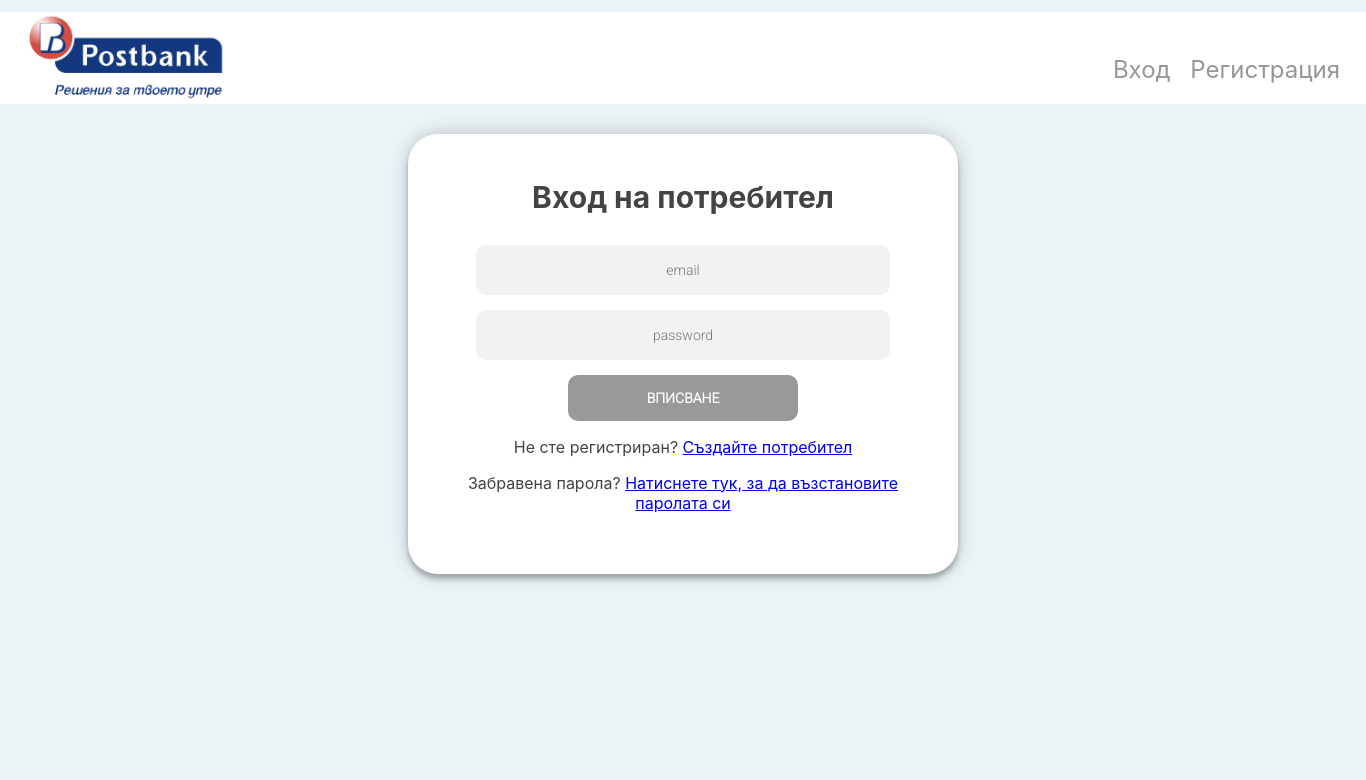
Check login form upon submit with email that doesn't match the requested format
Type "ndimov@postbank.b" into the field with placeholder "email" at (683, 270), box [476,245,890,295]
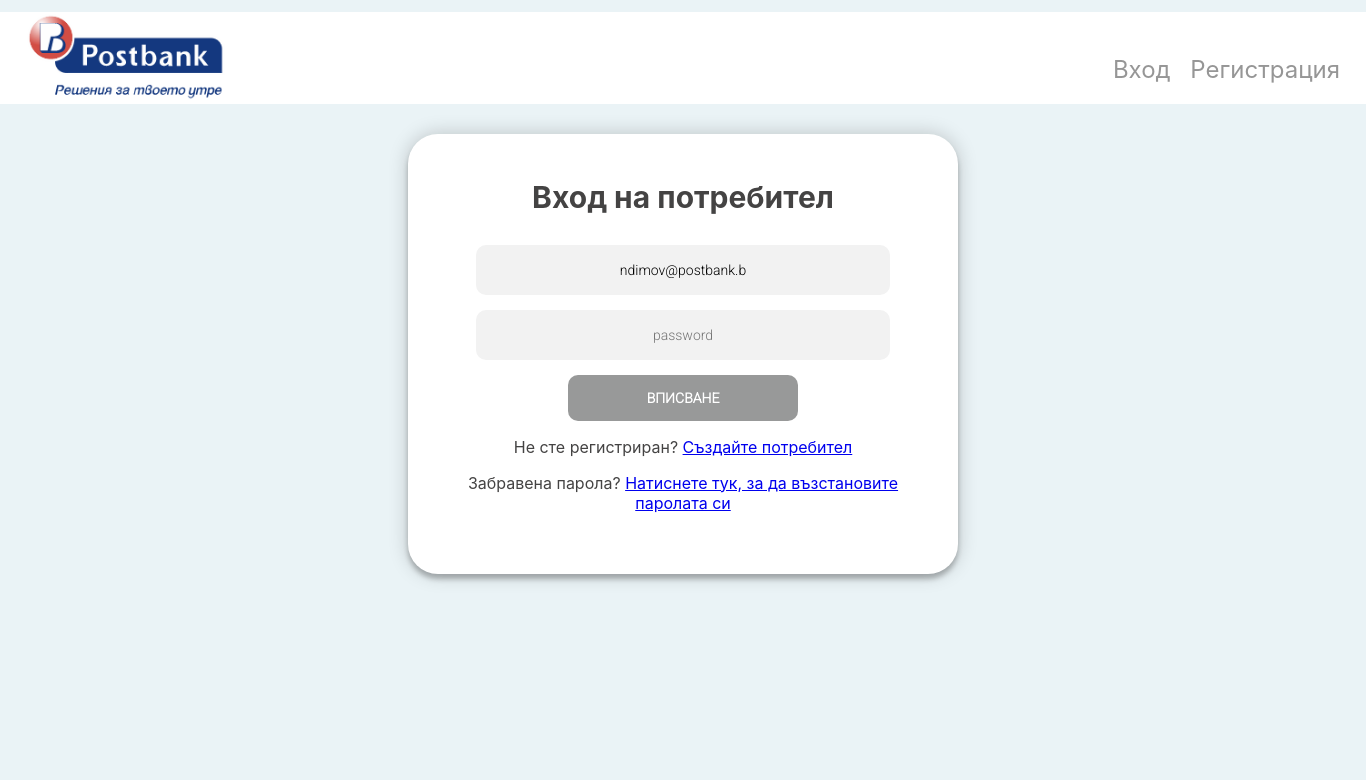
Type "123" into the password field with placeholder "password" at (683, 335), box [476,310,890,360]
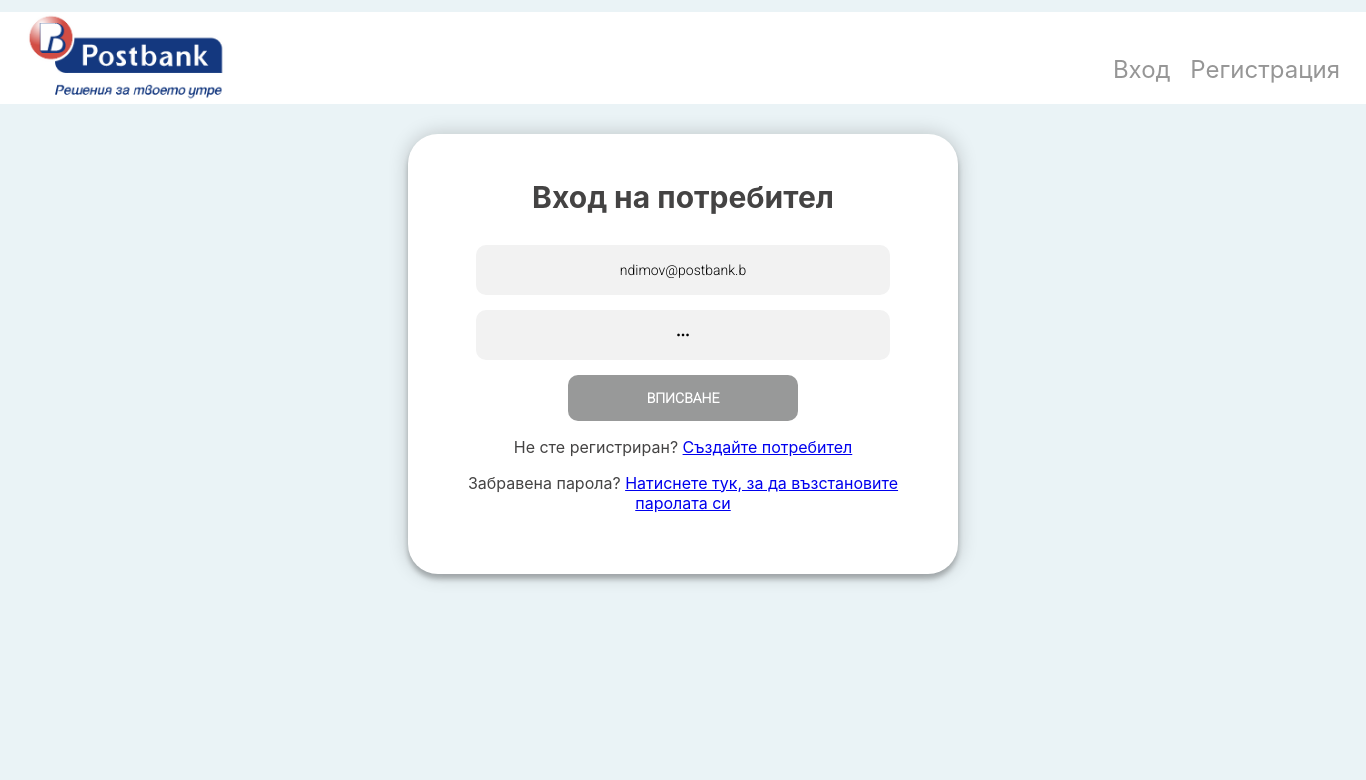
Click the button "Вписване" at (683, 398), box [568,375,798,421]
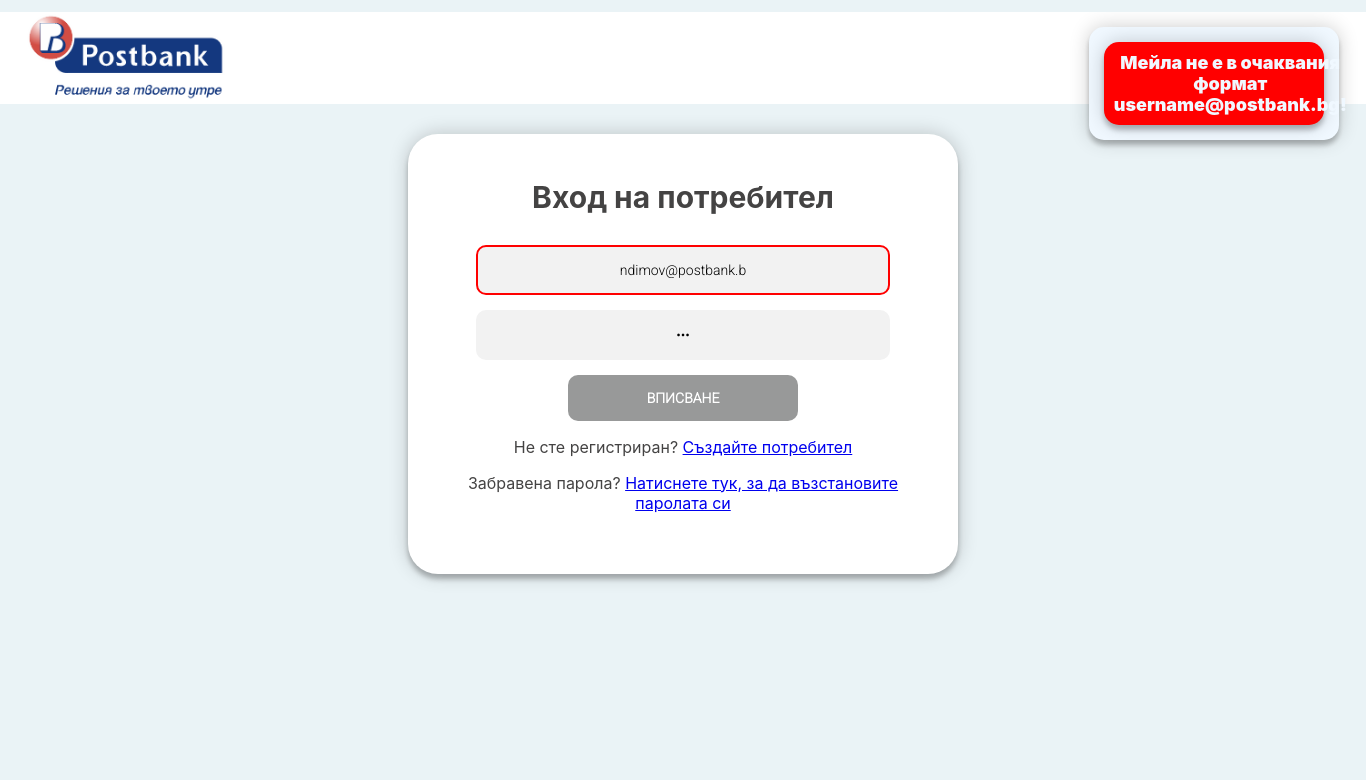
Result: the text "Мейла не е в очаквания формат username@postbank.bg!" is shown at [1114,52,1347,115]
